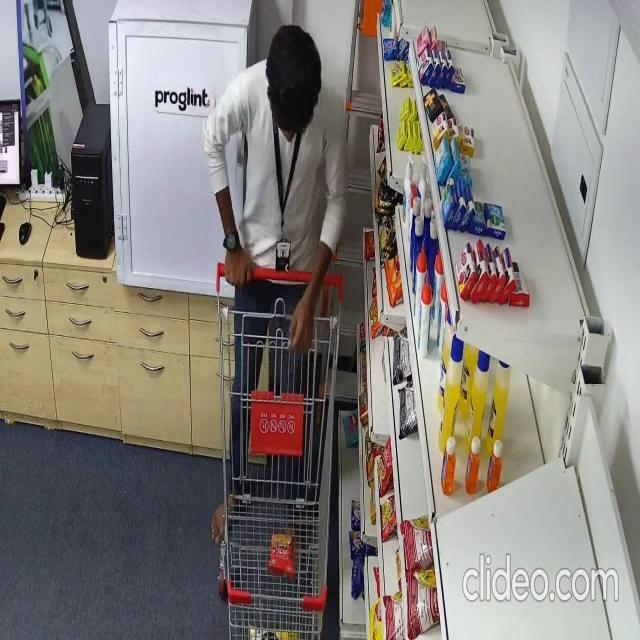normal: (204, 0, 344, 560)
